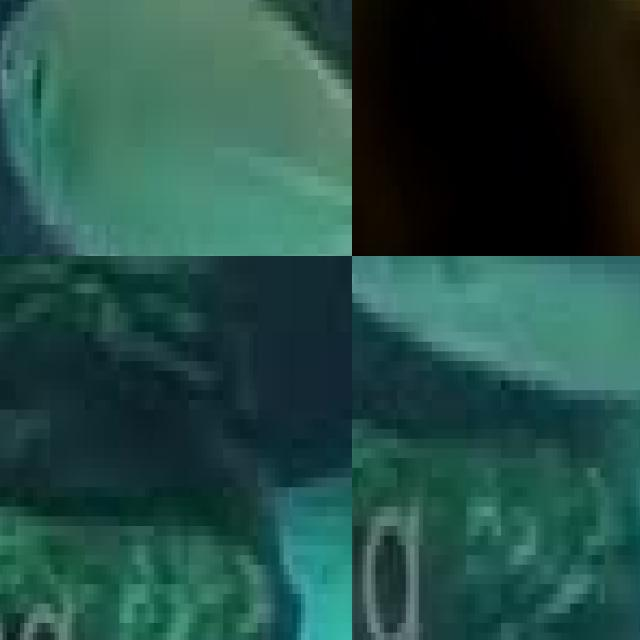fish: (0, 0, 352, 256), (352, 256, 640, 497)
